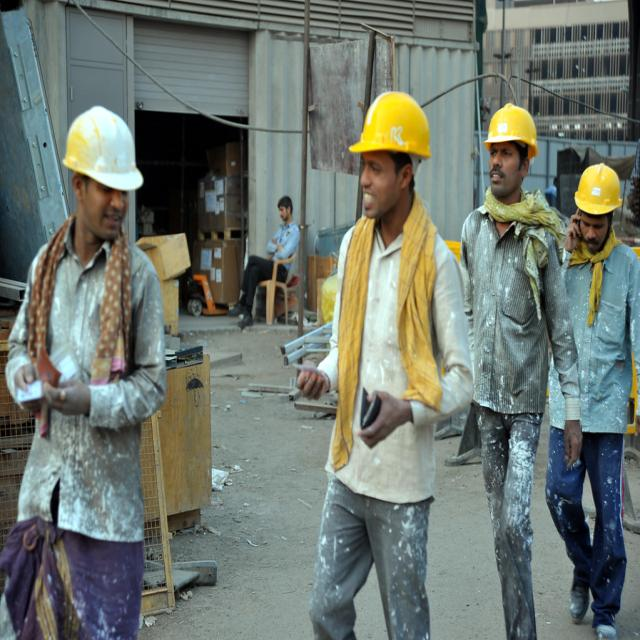Boots: (562, 548, 629, 636)
Hard Hat: (58, 101, 142, 195), (347, 86, 439, 170), (485, 100, 542, 158), (572, 160, 622, 216)
